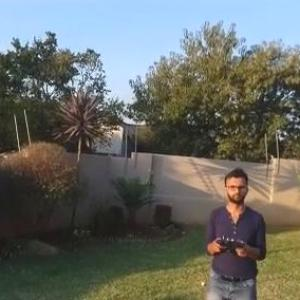follow: (201, 166, 270, 299)
